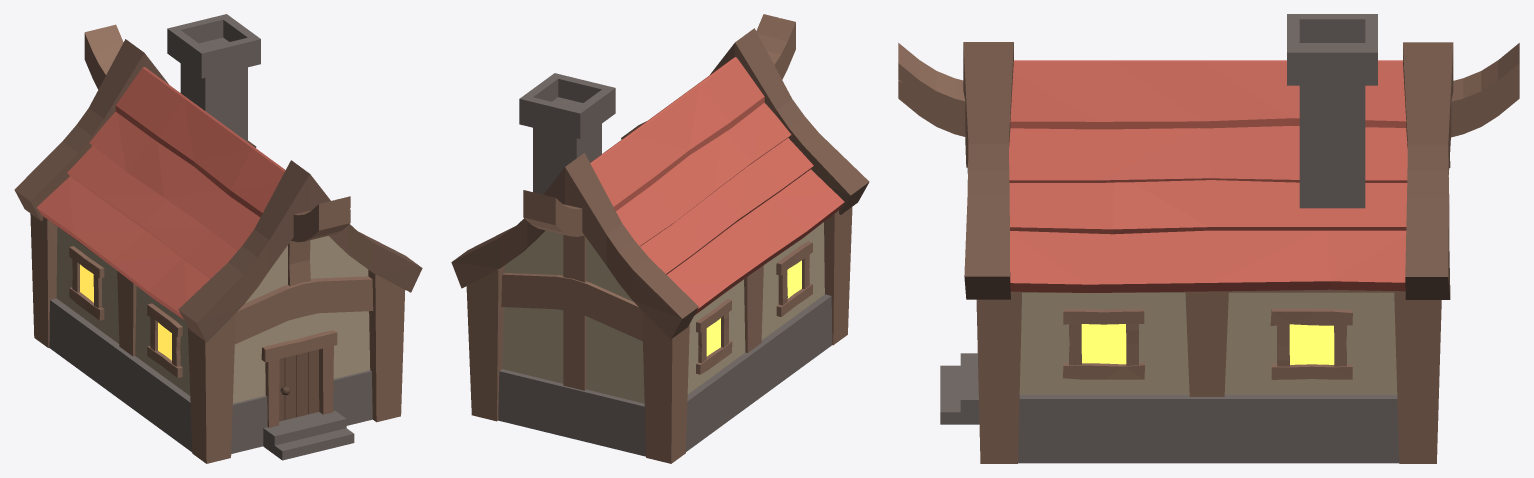
File: house.gltf
The picture shows the model from 3 angles, left to right: view 1: azimuth 30°, elevation 25°; view 2: azimuth 150°, elevation 25°; view 3: azimuth 270°, elevation 25°; orthographic projection. The views are drawn at different scales.
Parts seen in each view (by area): view 1: House; view 2: House; view 3: House.
Boxes of the visible parts, x1,y1,x2,y2 form: House: (14,14,422,463); House: (451,14,869,463); House: (898,14,1519,463).
Bounding box in the file's own units: 9.75 × 12.33 × 17.53.
